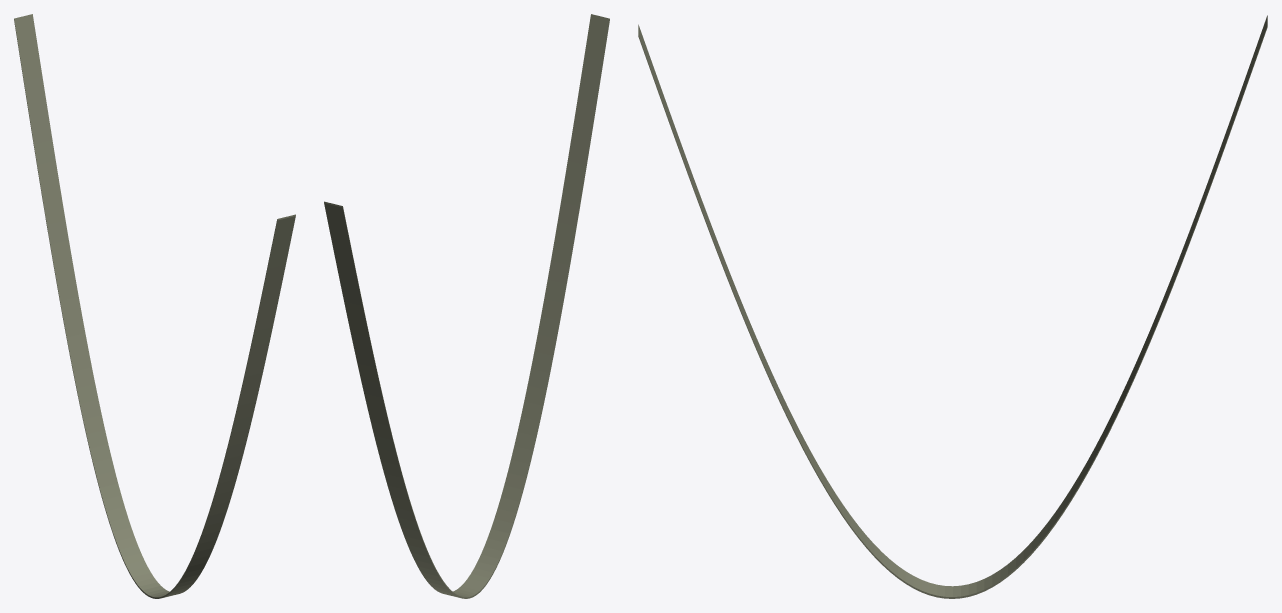
The model's file is ShotgunSling.fbx.
3 renders of one model, left to right at view 1: azimuth 30°, elevation 25°; view 2: azimuth 150°, elevation 25°; view 3: azimuth 270°, elevation 25°, orthographic. The views are drawn at different scales.
Parts seen in each view (by area): view 1: Ribbon__Webbing; view 2: Ribbon__Webbing; view 3: Ribbon__Webbing.
Part boxes in pixels (bbox=[...]): Ribbon__Webbing: bbox=[14, 14, 295, 598]; Ribbon__Webbing: bbox=[324, 14, 609, 598]; Ribbon__Webbing: bbox=[638, 15, 1267, 598].
Bounding box in the file's own units: 0.025 × 0.6137 × 0.61.
